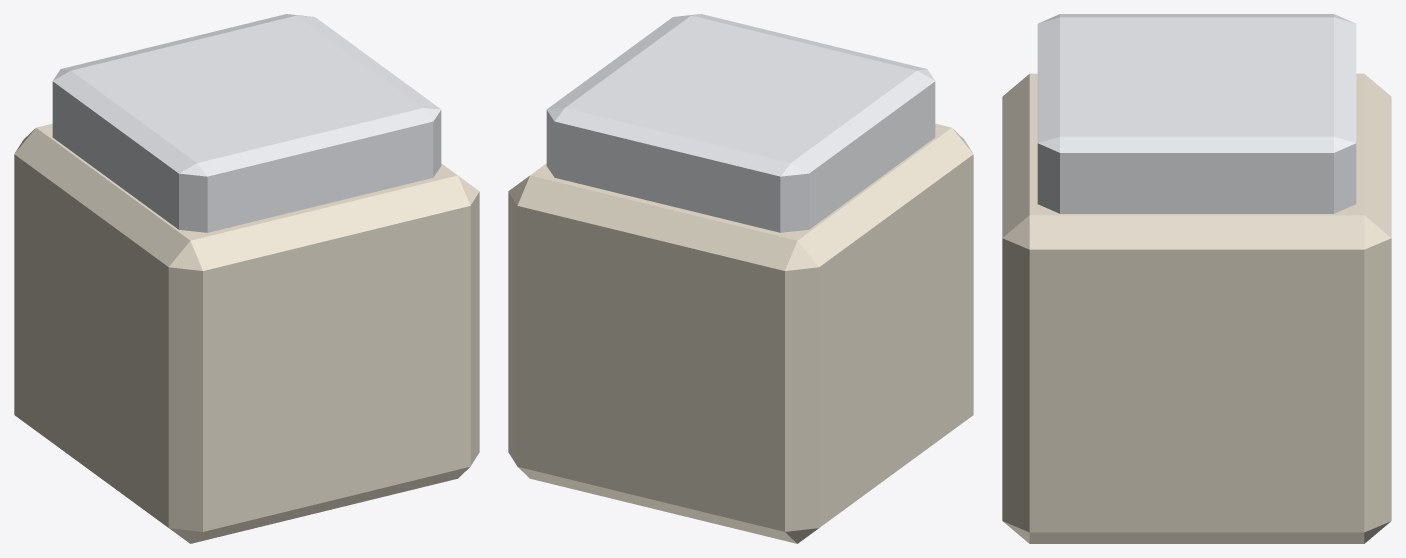
Rendered from b17_feather_shuttlecock.glb.
3 renders of one model, left to right at view 1: azimuth 30°, elevation 25°; view 2: azimuth 150°, elevation 25°; view 3: azimuth 270°, elevation 25°, orthographic. The views are drawn at different scales.
Parts seen in each view (by area): view 1: b17_feather_shuttlecock; view 2: b17_feather_shuttlecock; view 3: b17_feather_shuttlecock.
Boxes of the visible parts, x1,y1,x2,y2 form: b17_feather_shuttlecock: (14,14,479,543); b17_feather_shuttlecock: (508,14,973,543); b17_feather_shuttlecock: (1002,14,1391,543).
Size of the model in its own units: 0.065 by 0.073 by 0.065.
